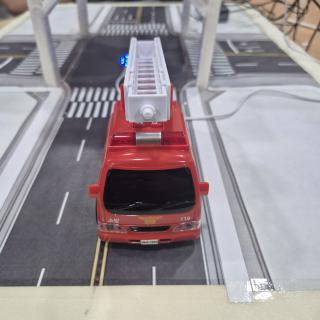Fire_truck: (89, 37, 209, 245)
